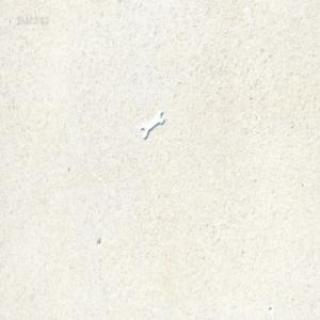Wrenchtrack_idkeyframe: (139, 109, 163, 139)
